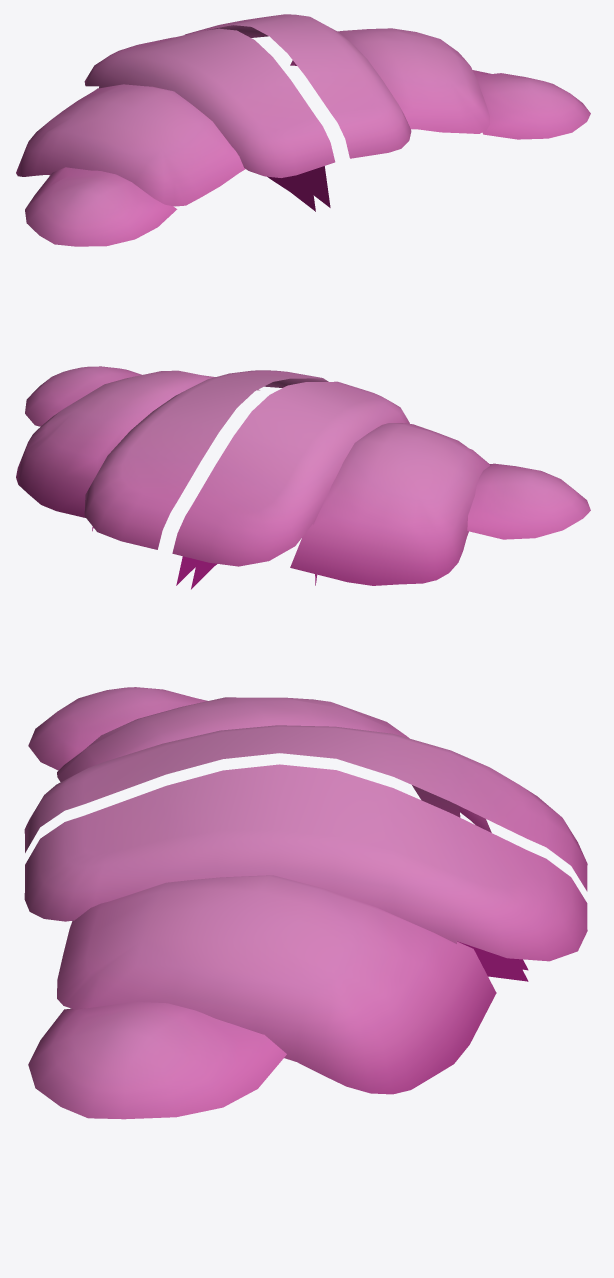
Rendered from Croissant_half_03.01.fbx.
3 renders of one model, top to bottom at view 1: azimuth 30°, elevation 25°; view 2: azimuth 150°, elevation 25°; view 3: azimuth 270°, elevation 25°, orthographic. The views are drawn at different scales.
Parts seen in each view (by area): view 1: Croissant_half_06, Croissant_half_05; view 2: Croissant_half_06, Croissant_half_05; view 3: Croissant_half_05, Croissant_half_06.
Part boxes in pixels (bbox=[...]): Croissant_half_06: bbox=[16, 28, 335, 246]; Croissant_half_05: bbox=[185, 14, 590, 207]; Croissant_half_06: bbox=[172, 381, 590, 589]; Croissant_half_05: bbox=[16, 366, 328, 585]; Croissant_half_05: bbox=[24, 764, 587, 1119]; Croissant_half_06: bbox=[24, 687, 587, 970].
Size of the model in its own units: 153 by 50.15 by 87.7.
